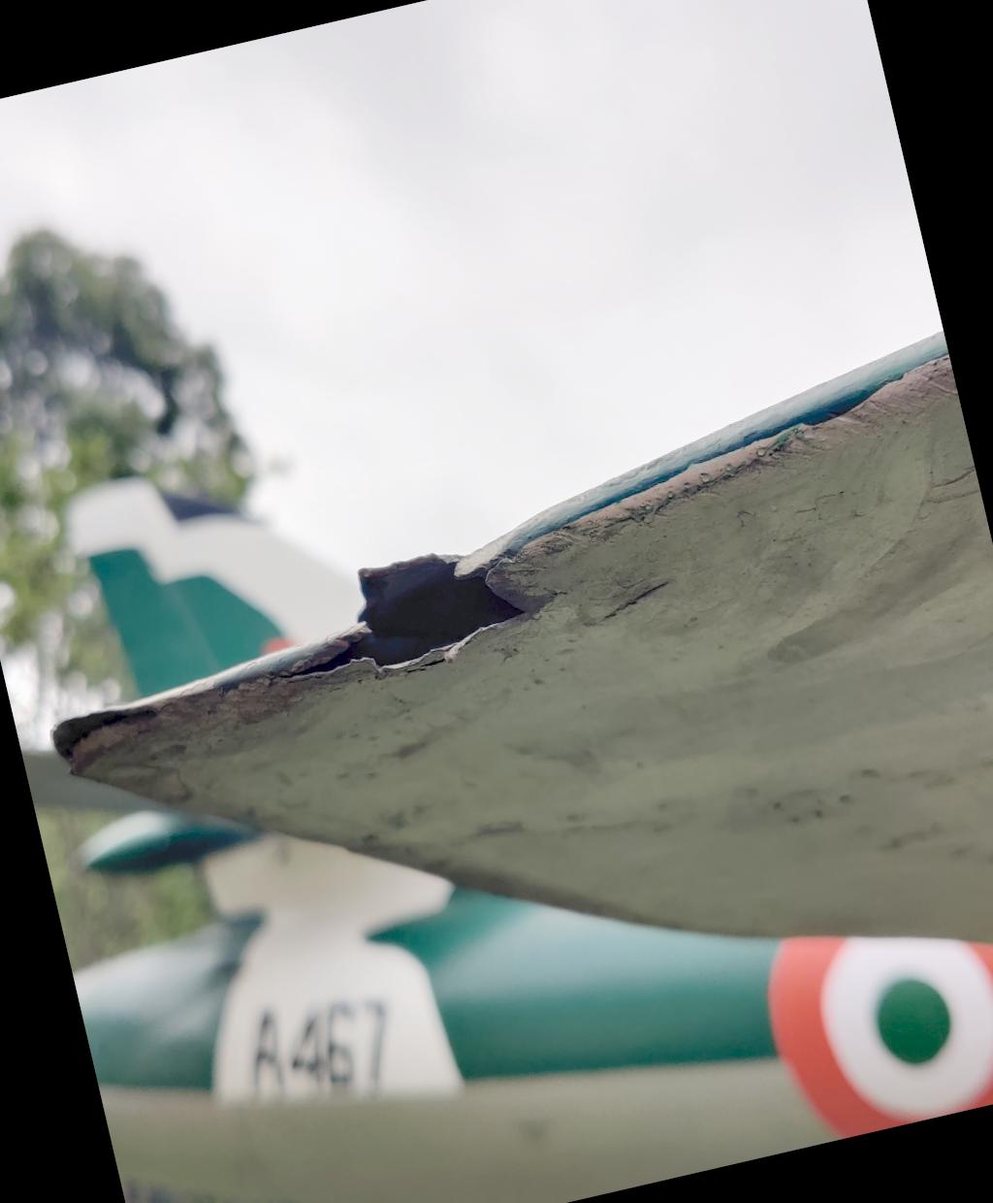crack: (303, 491, 596, 715)
